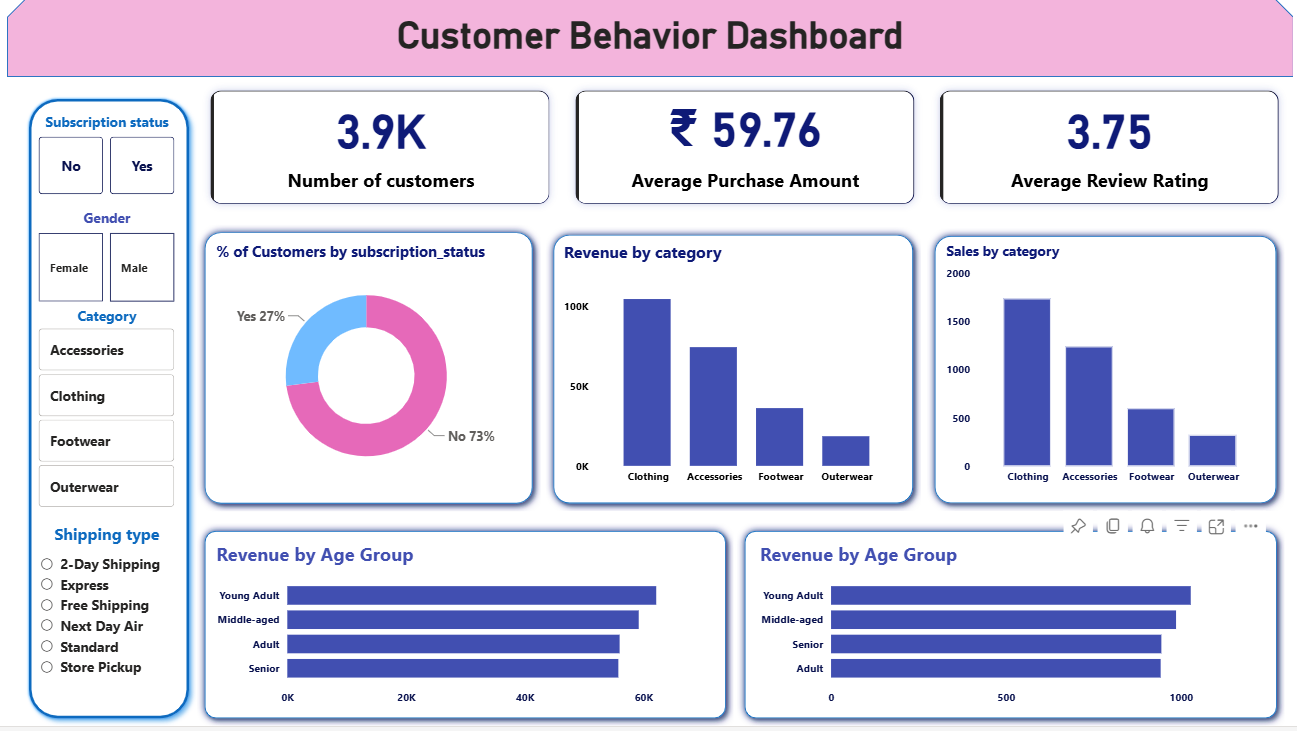

The dashboard page shown, as its layout file describes it:
{"tool":"powerbi","page":{"name":"Page 1","canvas":[1500,850],"ordinal":0},"visuals":[{"type":"shape","box":[0,0,1500.3,93.3],"z":0},{"type":"textbox","box":[0,14.5,1500.3,67.5],"z":1000},{"type":"cardVisual","fields":{"Data":["customer_behaviour customer.Number of customers","customer_behaviour customer.Average Purchase Amount","customer_behaviour customer.Average Review Rating"]},"box":[221.9,93.3,1278.4,164],"z":2000},{"type":"shape","box":[221.9,265.3,400.4,334.5],"z":3000},{"type":"donutChart","title":"% of Customers by subscription_status","fields":{"Category":["customer_behaviour customer.subscription_status"],"Y":["customer_behaviour customer.Number of customers"]},"box":[239.6,284.6,360.2,292.7],"z":4000},{"type":"shape","box":[628.8,268.5,437.4,331.3],"z":5000},{"type":"shape","box":[1072.6,270.2,416.5,329.7],"z":6000},{"type":"clusteredColumnChart","title":"Revenue by category","fields":{"Category":["customer_behaviour customer.category"],"Y":["Sum(customer_behaviour customer.purchase_amount)"]},"box":[644.8,284.6,400.4,292.7],"z":7000},{"type":"columnChart","title":"Sales by category","fields":{"Category":["customer_behaviour customer.category"],"Y":["customer_behaviour customer.Number of customers"]},"box":[1090.3,284.6,379.5,292.7],"z":8000},{"type":"shape","box":[221.9,614.3,625.5,236.4],"z":9000},{"type":"shape","box":[850.7,614.3,638.4,236.4],"z":10000},{"type":"shape","box":[16.1,109.3,205.8,741.3],"z":11000},{"type":"advancedSlicerVisual","title":"Subscription status","fields":{"Values":["customer_behaviour customer.subscription_status"]},"box":[32.2,133.5,168.8,101.3],"z":12000},{"type":"advancedSlicerVisual","title":"Gender","fields":{"Values":["customer_behaviour customer.gender"]},"box":[32.2,246,168.8,114.2],"z":13000},{"type":"advancedSlicerVisual","title":"Category","fields":{"Values":["customer_behaviour customer.category"]},"box":[32.2,360.2,168.8,239.6],"z":14000},{"type":"listSlicer","title":"Shipping type","fields":{"Values":["customer_behaviour customer.shipping_type"]},"box":[32.2,614.3,168.8,236.4],"z":15000},{"type":"clusteredBarChart","title":"Revenue by Age Group","fields":{"Category":["customer_behaviour customer.age_group"],"Y":["Sum(customer_behaviour customer.purchase_amount)"]},"box":[239.6,633.6,588.6,201],"z":16000},{"type":"clusteredBarChart","title":"Revenue by Age Group","fields":{"Category":["customer_behaviour customer.age_group"],"Y":["customer_behaviour customer.Number of customers"]},"box":[873.2,633.6,596.6,201],"z":17000}]}

Visuals, with their boxes in screenshot pixels (x1, y1, x2, y2), scaled from the page's 1500x850 canvas onto the 1297x731 screenshot:
shape: region(0, 0, 1296, 80)
textbox: region(0, 12, 1296, 71)
cardVisual - customer_behaviour customer.Number of customers x customer_behaviour customer.Average Purchase Amount: region(192, 80, 1296, 221)
shape: region(192, 228, 538, 516)
"% of Customers by subscription_status" donutChart: region(207, 245, 519, 496)
shape: region(544, 231, 922, 516)
shape: region(927, 232, 1288, 516)
"Revenue by category" clusteredColumnChart: region(558, 245, 904, 496)
"Sales by category" columnChart: region(943, 245, 1271, 496)
shape: region(192, 528, 733, 730)
shape: region(736, 528, 1288, 730)
shape: region(14, 94, 192, 730)
"Subscription status" advancedSlicerVisual: region(28, 115, 174, 202)
"Gender" advancedSlicerVisual: region(28, 212, 174, 310)
"Category" advancedSlicerVisual: region(28, 310, 174, 516)
"Shipping type" listSlicer: region(28, 528, 174, 730)
"Revenue by Age Group" clusteredBarChart: region(207, 545, 716, 718)
"Revenue by Age Group" clusteredBarChart: region(755, 545, 1271, 718)
